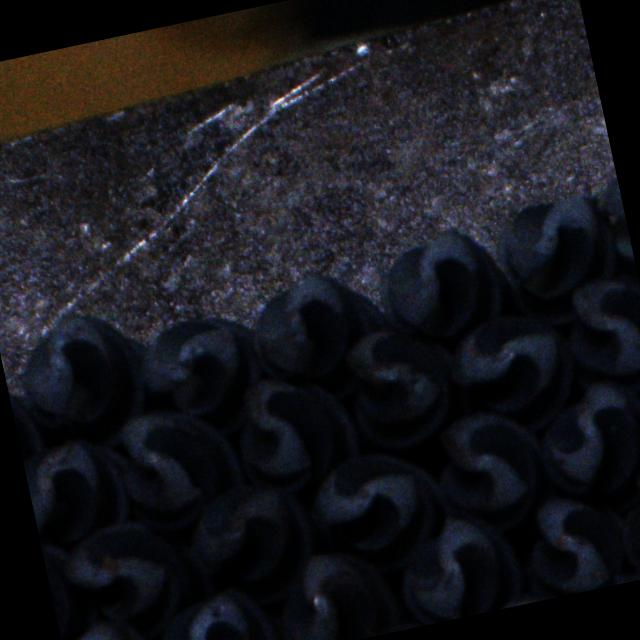tool_b: (5, 306, 164, 463), (238, 262, 398, 412), (300, 438, 456, 582), (56, 508, 219, 640), (176, 472, 323, 614), (486, 187, 626, 333), (105, 396, 249, 536), (338, 318, 479, 458), (442, 306, 584, 445), (132, 308, 272, 448), (223, 364, 364, 501), (368, 218, 516, 348), (426, 400, 558, 540), (527, 371, 640, 523), (391, 503, 530, 625), (512, 487, 638, 602), (21, 431, 137, 548), (267, 542, 404, 640), (554, 267, 640, 399), (150, 581, 286, 640), (39, 531, 101, 640), (3, 363, 52, 488), (607, 457, 640, 580), (59, 612, 161, 640), (628, 352, 640, 488)
